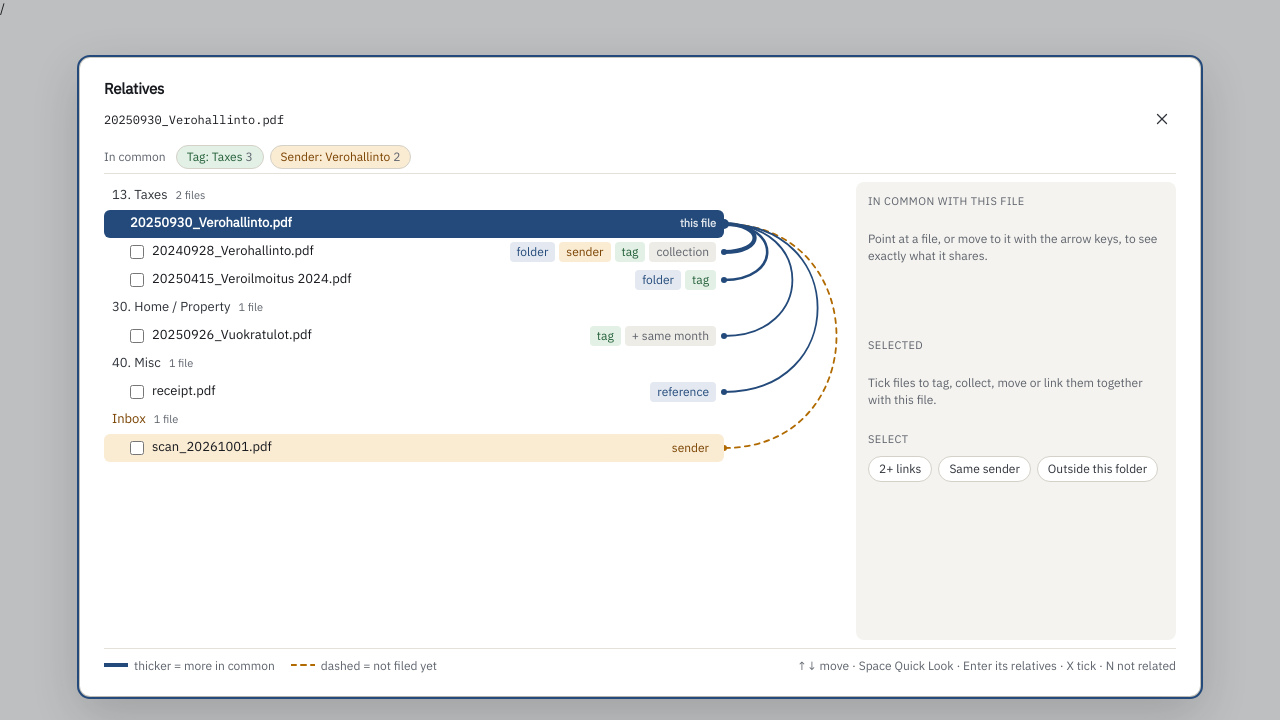
the card › has Show in folder, and Not related as a button of its own, last and set apart
Expected: the checkbox named "Select receipt.pdf" is shown, [130,385,144,399]
Hover over the list item named "Select 20240928_Verohallinto.pdf" at (414, 252), box [104,238,724,266]
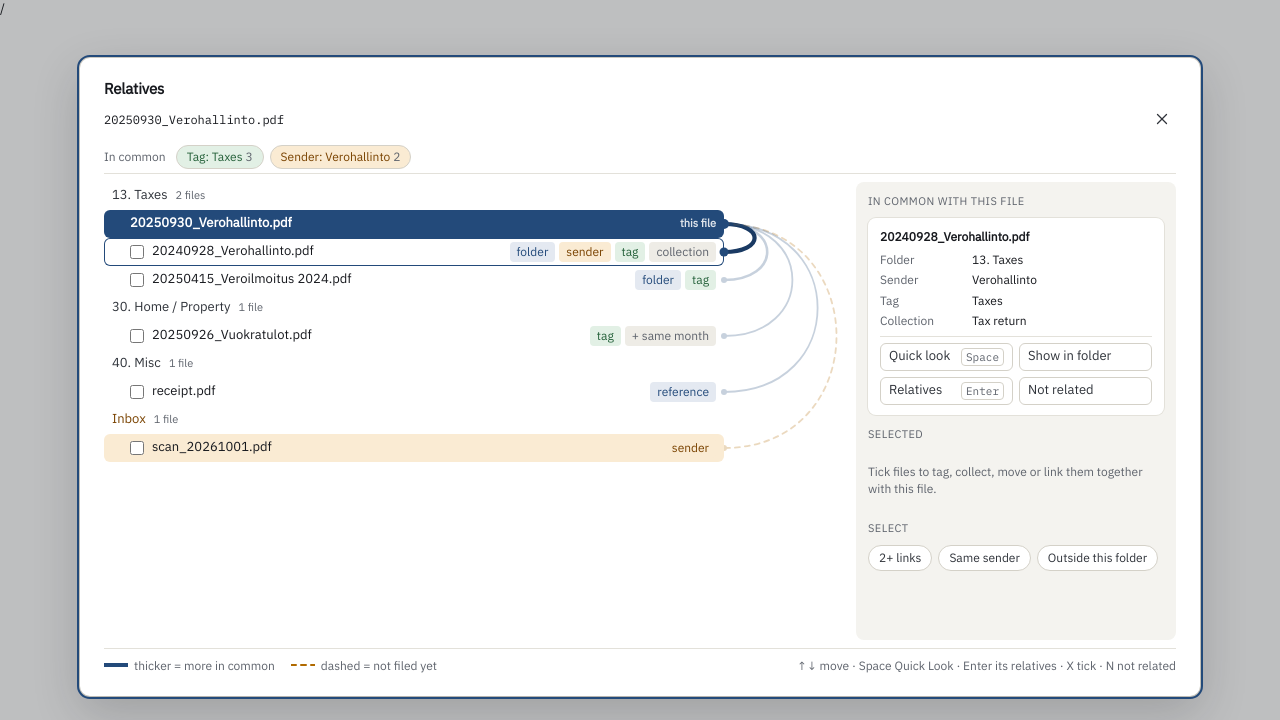
Expected: the buttons read "Quick look Space", "Show in folder", "Relatives Enter", "Not related", in this order, [880,343,1013,371]; [1019,343,1152,371]; [880,377,1013,405]; [1019,377,1152,405]
